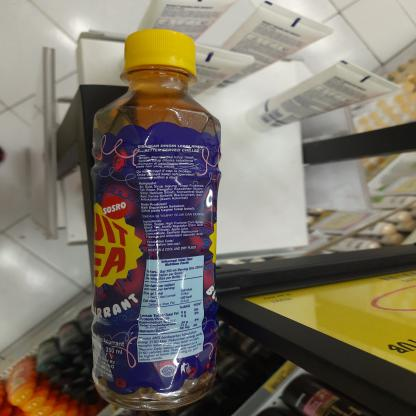plastic: (81, 23, 228, 415)
